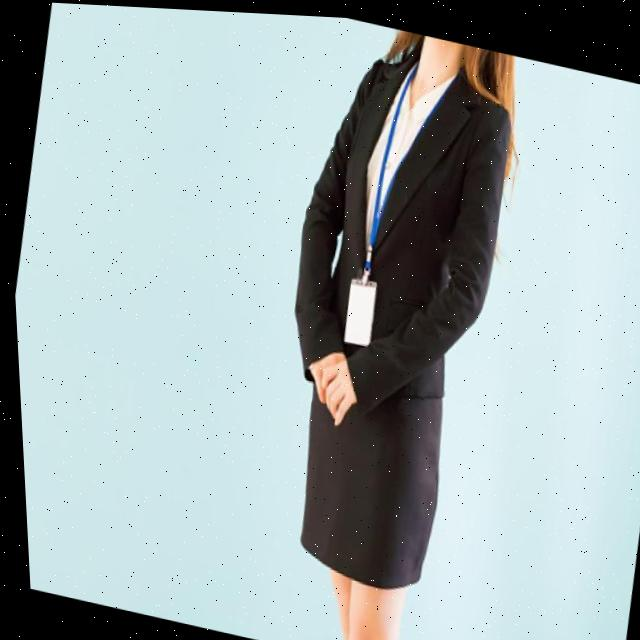id_card: (316, 40, 454, 360)
